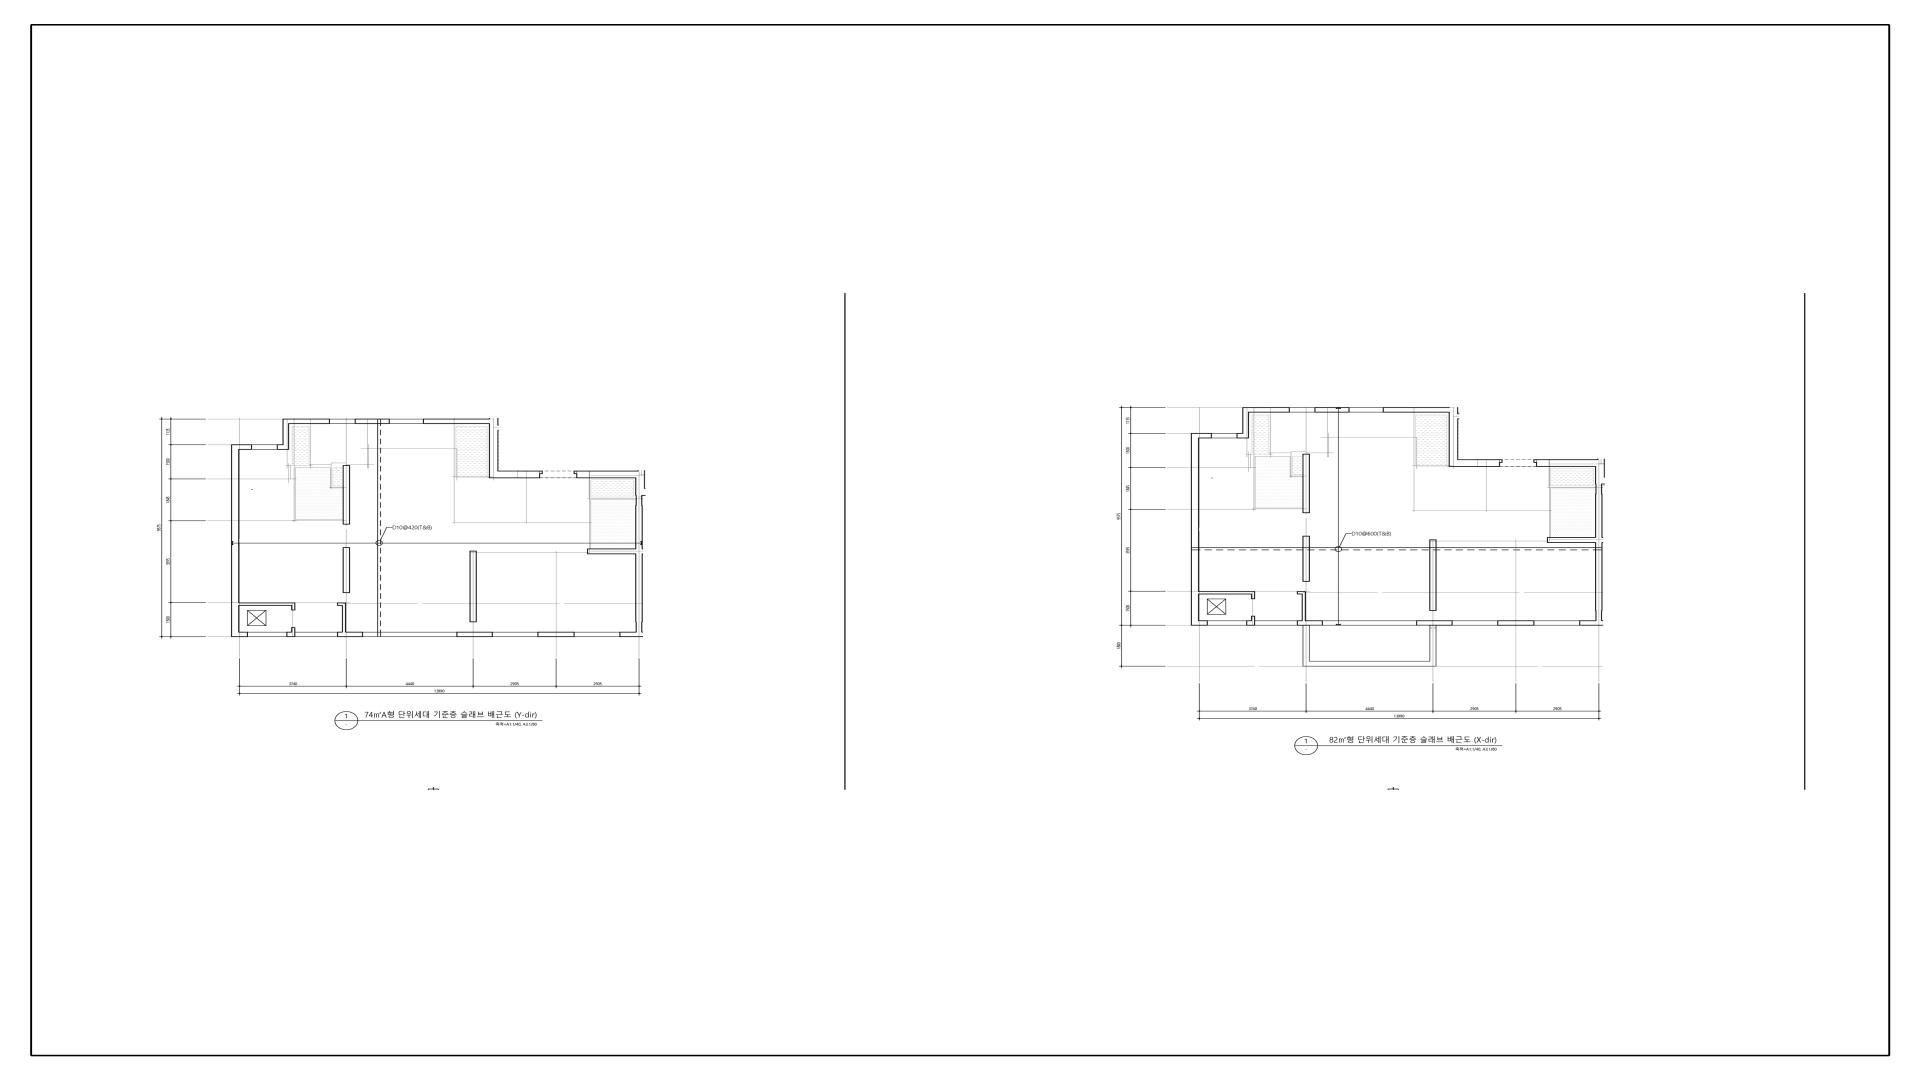wall: (1191, 438, 1199, 621), (231, 450, 239, 632), (635, 496, 643, 632), (1595, 485, 1603, 620), (1429, 540, 1437, 611), (1536, 459, 1605, 467), (470, 551, 477, 622), (489, 424, 498, 478), (1449, 413, 1458, 467), (576, 471, 645, 478), (1383, 407, 1458, 413), (343, 465, 350, 525), (1303, 454, 1310, 513), (423, 419, 498, 424), (1458, 459, 1500, 467), (343, 547, 350, 593), (1303, 536, 1310, 582), (1547, 537, 1595, 543), (499, 471, 540, 478), (1249, 407, 1290, 413), (587, 549, 635, 554), (1416, 620, 1453, 626), (1315, 407, 1350, 413), (289, 419, 330, 424), (1497, 621, 1535, 626), (538, 632, 575, 637), (456, 632, 493, 637), (1242, 407, 1249, 433), (635, 478, 645, 496), (1595, 467, 1605, 485), (355, 419, 390, 424), (239, 603, 291, 606), (1297, 620, 1323, 626), (1199, 591, 1251, 594), (283, 419, 289, 444), (1579, 620, 1603, 626), (337, 632, 363, 637), (231, 444, 252, 450), (620, 632, 643, 637), (1191, 433, 1212, 438), (342, 606, 346, 632), (1191, 620, 1208, 626), (1302, 595, 1306, 620), (231, 632, 248, 637), (277, 444, 289, 450), (1237, 433, 1249, 438), (1246, 620, 1255, 626), (286, 632, 295, 637), (291, 603, 295, 611), (1251, 591, 1255, 599), (337, 603, 346, 606), (1297, 591, 1306, 594), (291, 627, 295, 632), (1251, 616, 1255, 620), (1500, 459, 1503, 463), (1533, 459, 1536, 463), (540, 471, 543, 474), (574, 471, 576, 474)
